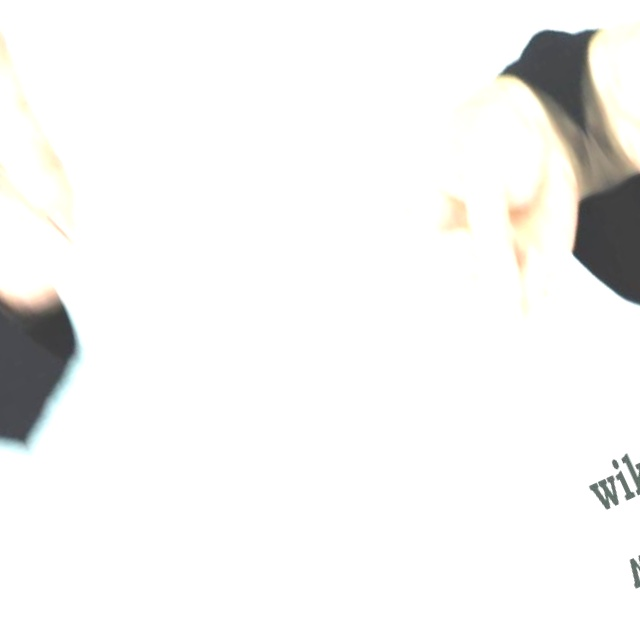Rock: (0, 98, 115, 333)
Scissors: (266, 58, 635, 415)
